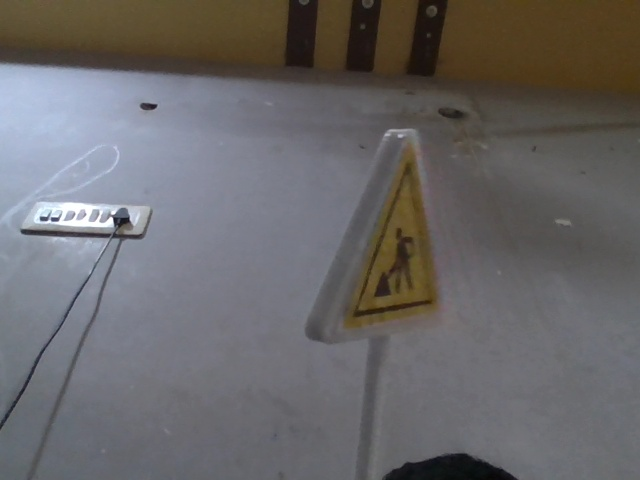workinprogress: (281, 136, 456, 343)
